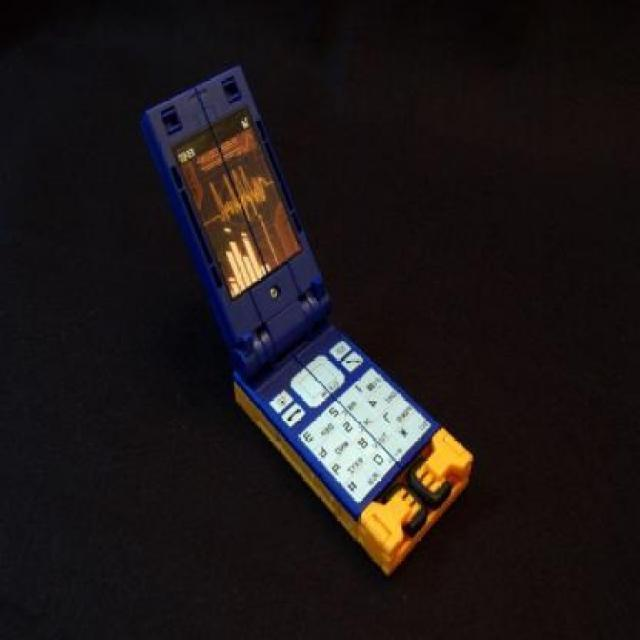phone: (137, 53, 477, 599)
